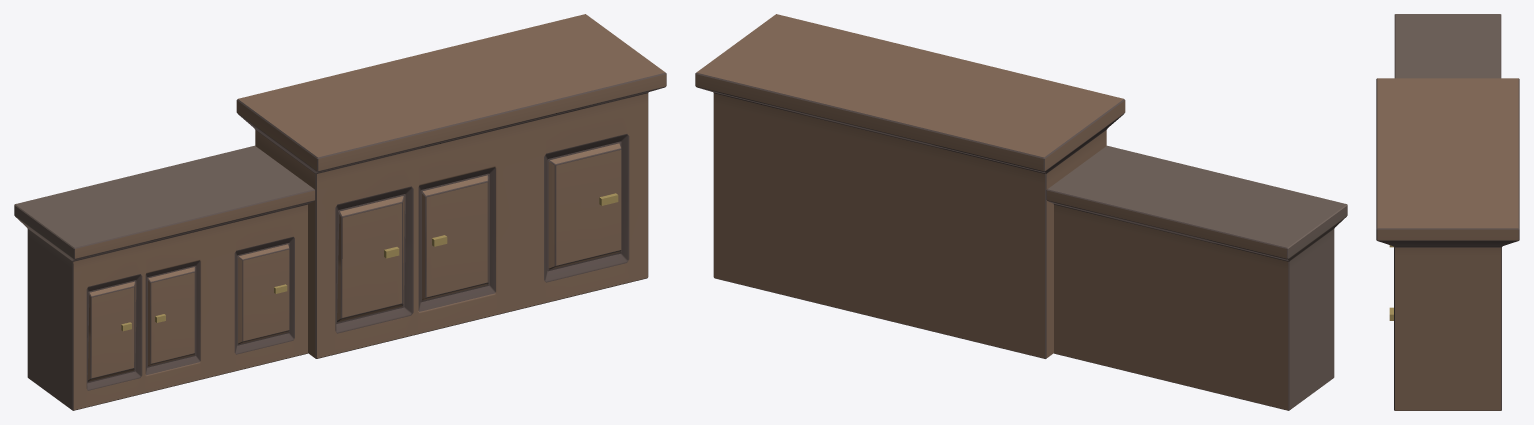
File: counter.fbx
The picture shows the model from 3 angles, left to right: view 1: azimuth 30°, elevation 25°; view 2: azimuth 150°, elevation 25°; view 3: azimuth 270°, elevation 25°; orthographic projection. The views are drawn at different scales.
Parts seen in each view (by area): view 1: counter, counter1; view 2: counter, counter1; view 3: counter, counter1.
Part boxes in pixels (left/top/right/bottom): counter: left=236, top=14, right=666, bottom=358; counter1: left=14, top=145, right=315, bottom=410; counter: left=695, top=14, right=1125, bottom=358; counter1: left=1046, top=145, right=1347, bottom=410; counter: left=1376, top=78, right=1519, bottom=410; counter1: left=1394, top=14, right=1501, bottom=78.
Bounding box in the file's own units: 10.91 × 3.78 × 2.64.
